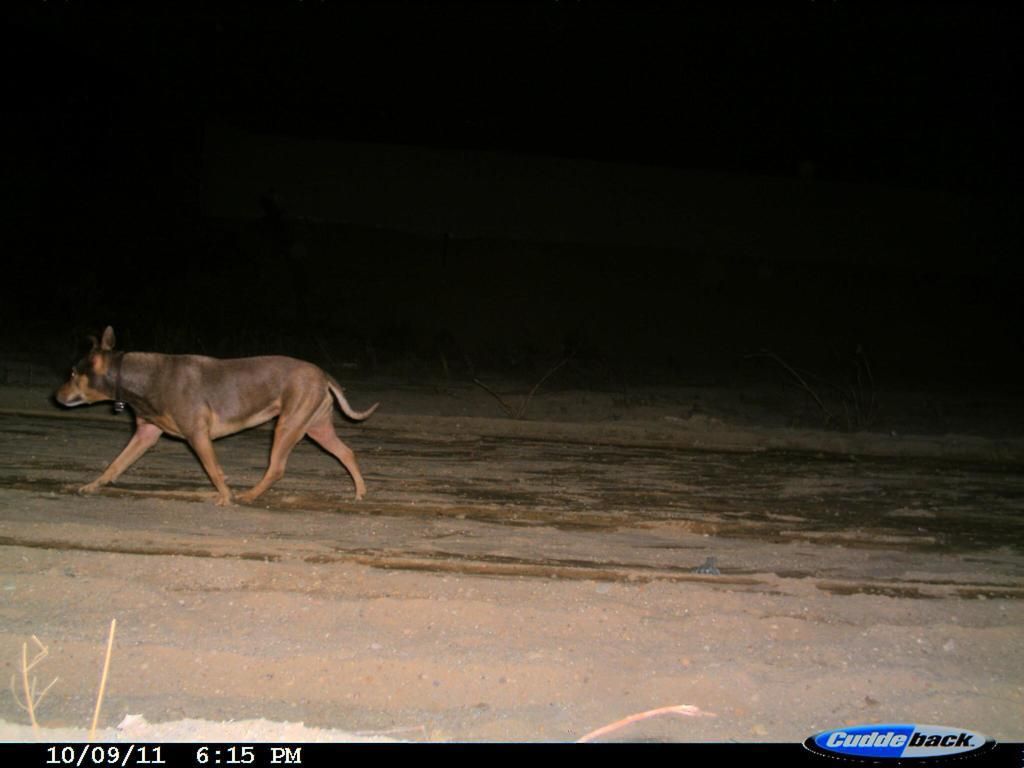dog: (48, 321, 391, 513)
